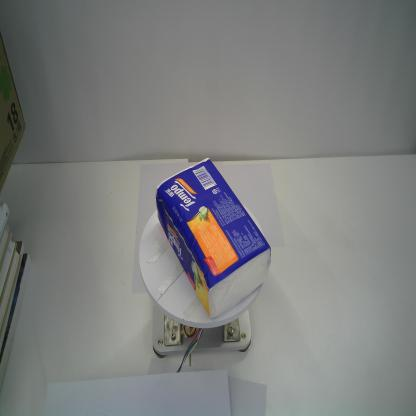Tissue: (155, 157, 272, 322)
